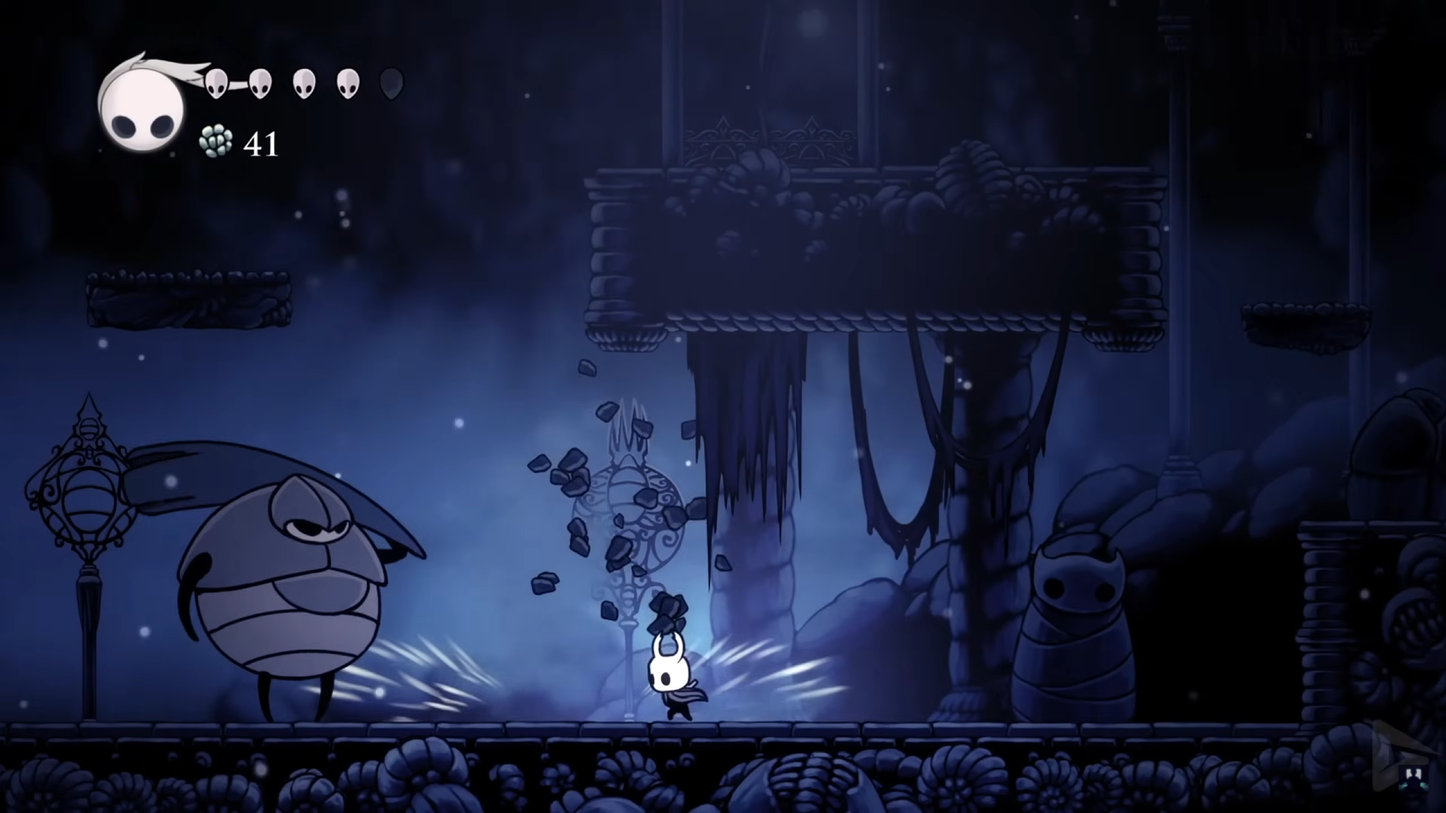HK: (643, 629, 710, 723)
